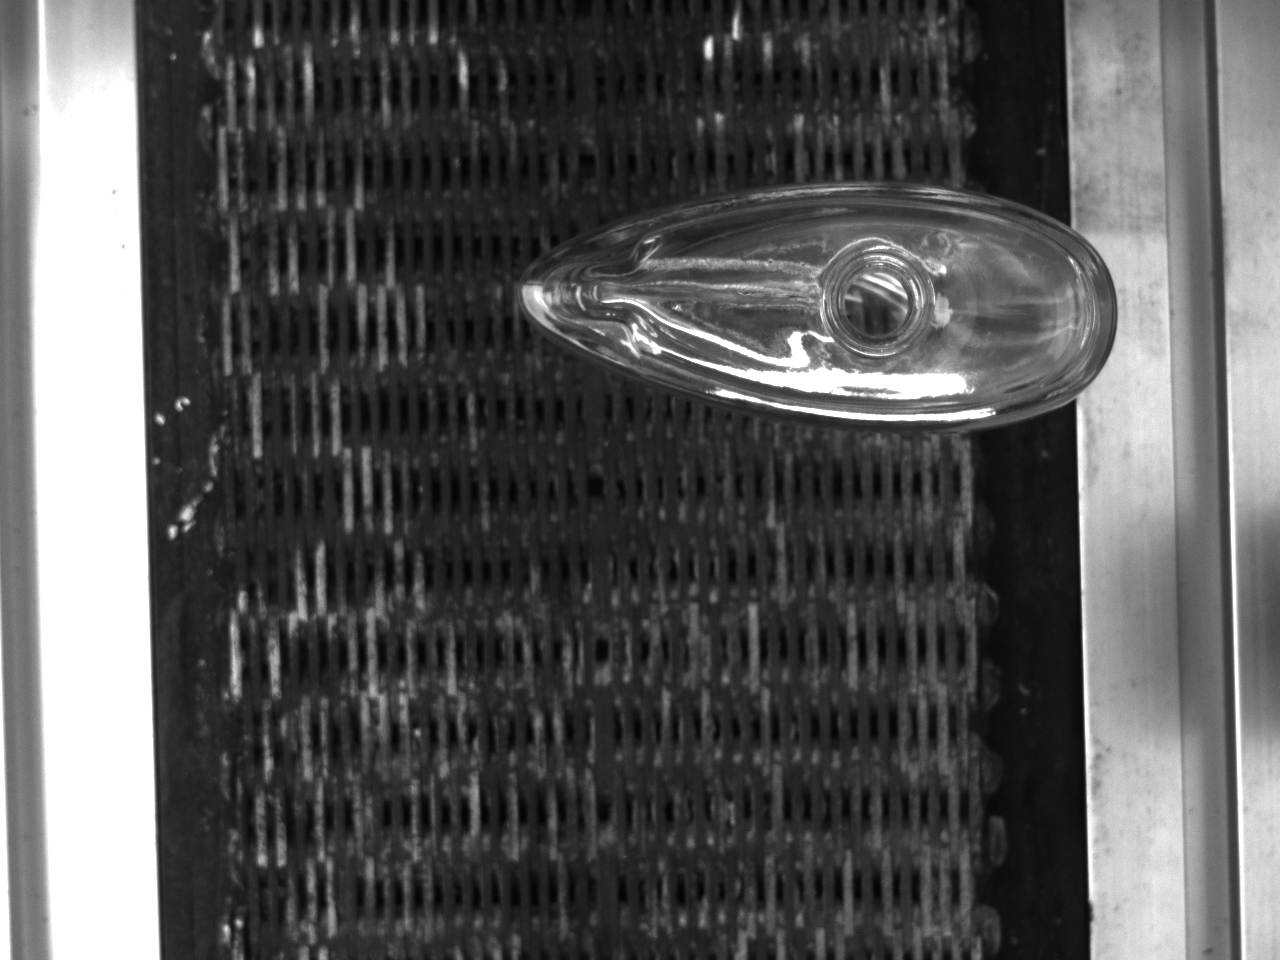bottleneck: (819, 244, 935, 358)
